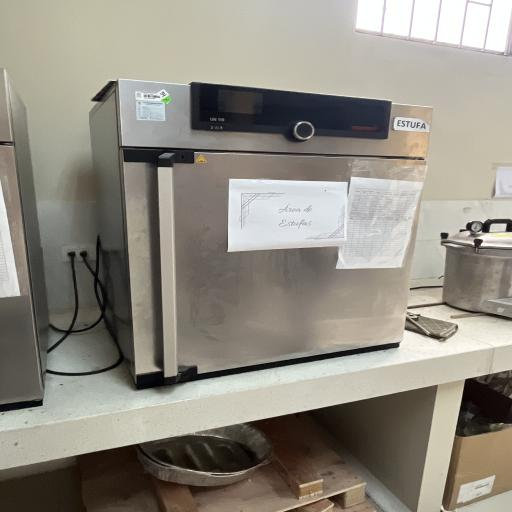Estufa_Memmert: (72, 70, 444, 402)
